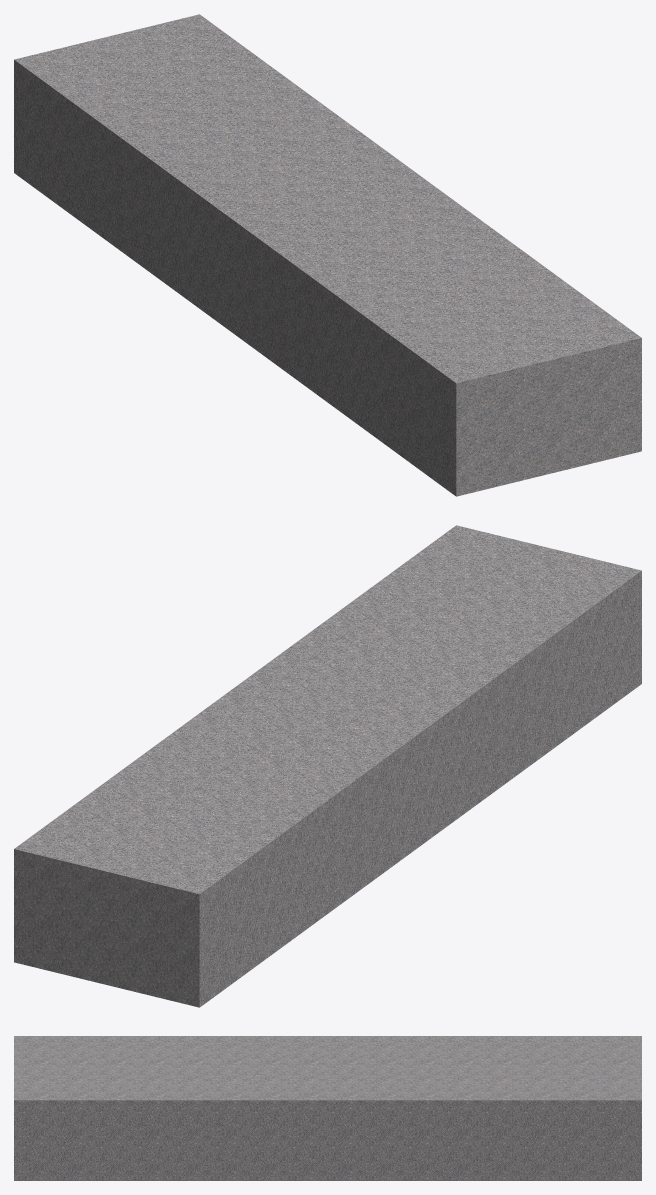
3 renders of one model, top to bottom at view 1: azimuth 30°, elevation 25°; view 2: azimuth 150°, elevation 25°; view 3: azimuth 270°, elevation 25°, orthographic. The views are drawn at different scales.
Parts seen in each view (by area): view 1: 0_0_2_2_1_1_3_0_0; view 2: 0_0_2_2_1_1_3_0_0; view 3: 0_0_2_2_1_1_3_0_0.
Part boxes in pixels (x1,y1,x2,y2): 0_0_2_2_1_1_3_0_0: [14, 14, 641, 496]; 0_0_2_2_1_1_3_0_0: [14, 525, 641, 1007]; 0_0_2_2_1_1_3_0_0: [14, 1036, 641, 1180].
Size of the model in its own units: 1.2 by 0.7 by 4.95.
Materials: 1 (1 with a texture image).
